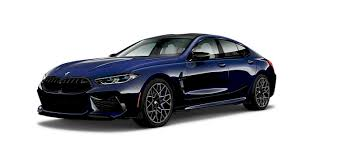car: (32, 32, 281, 128)
